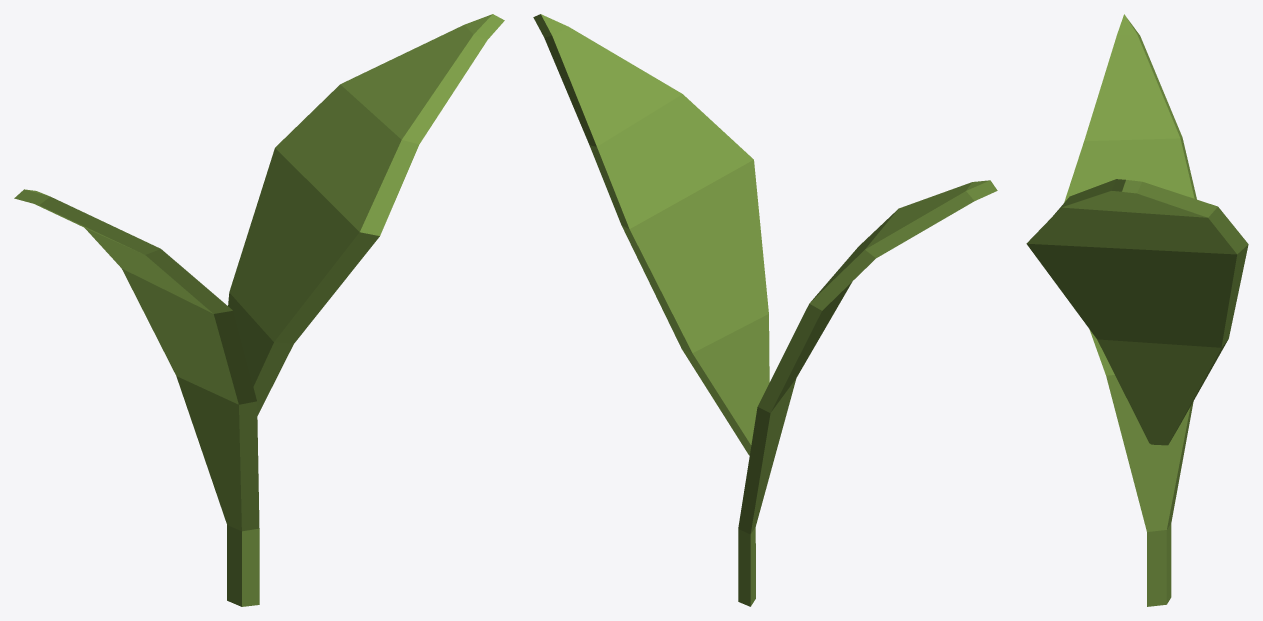
Rendered from crop-cell-lettuce-seedling.gltf.
3 views of the same model, side by side, from view 1: azimuth 30°, elevation 25°; view 2: azimuth 150°, elevation 25°; view 3: azimuth 270°, elevation 25° (orthographic). The views are drawn at different scales.
Visible parts, largest first — view 1: crop-cell-lettuce-seedling; view 2: crop-cell-lettuce-seedling; view 3: crop-cell-lettuce-seedling.
Boxes of the visible parts, x1,y1,x2,y2 form: crop-cell-lettuce-seedling: (14,14,504,606); crop-cell-lettuce-seedling: (533,14,997,606); crop-cell-lettuce-seedling: (1026,14,1248,606).
Size of the model in its own units: 0.1494 by 0.1591 by 0.06.
